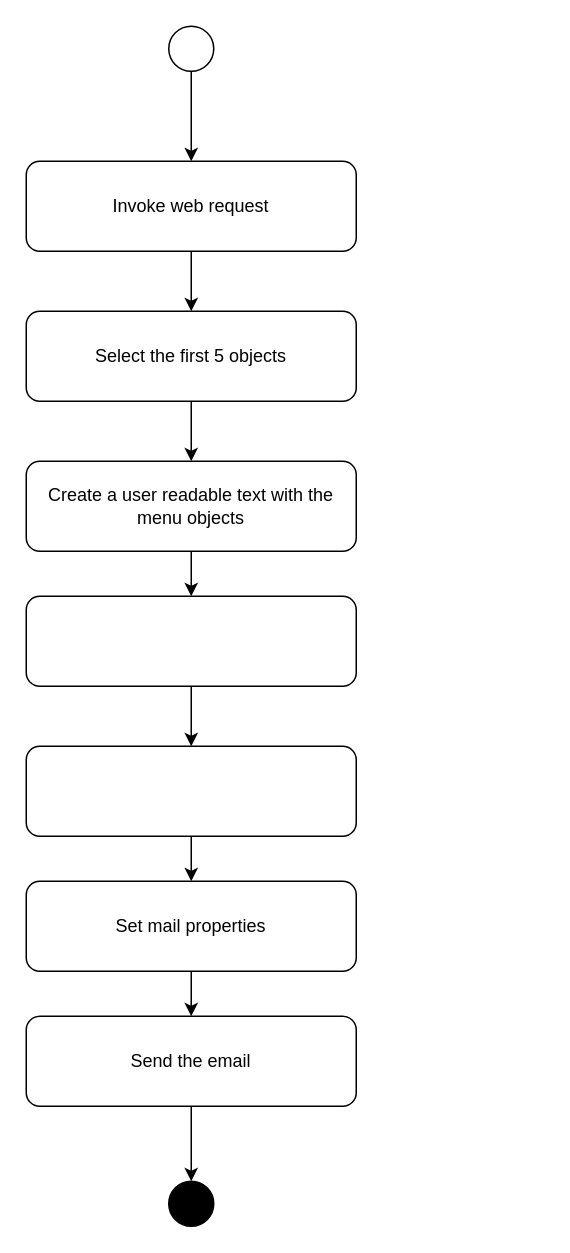
Image size: 570x1253. Some labels were removed from this diagram. Each missing label, with the centre of its shape:
"Create a mail Item" goes at point 190,790.
"Open Outlook" goes at point 190,640.
